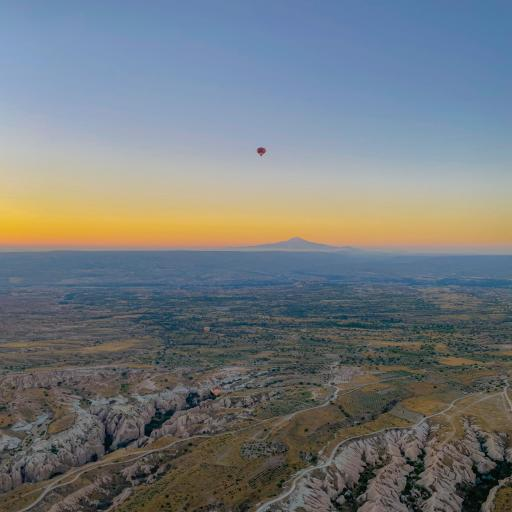hot air ballon: (256, 147, 266, 157)
